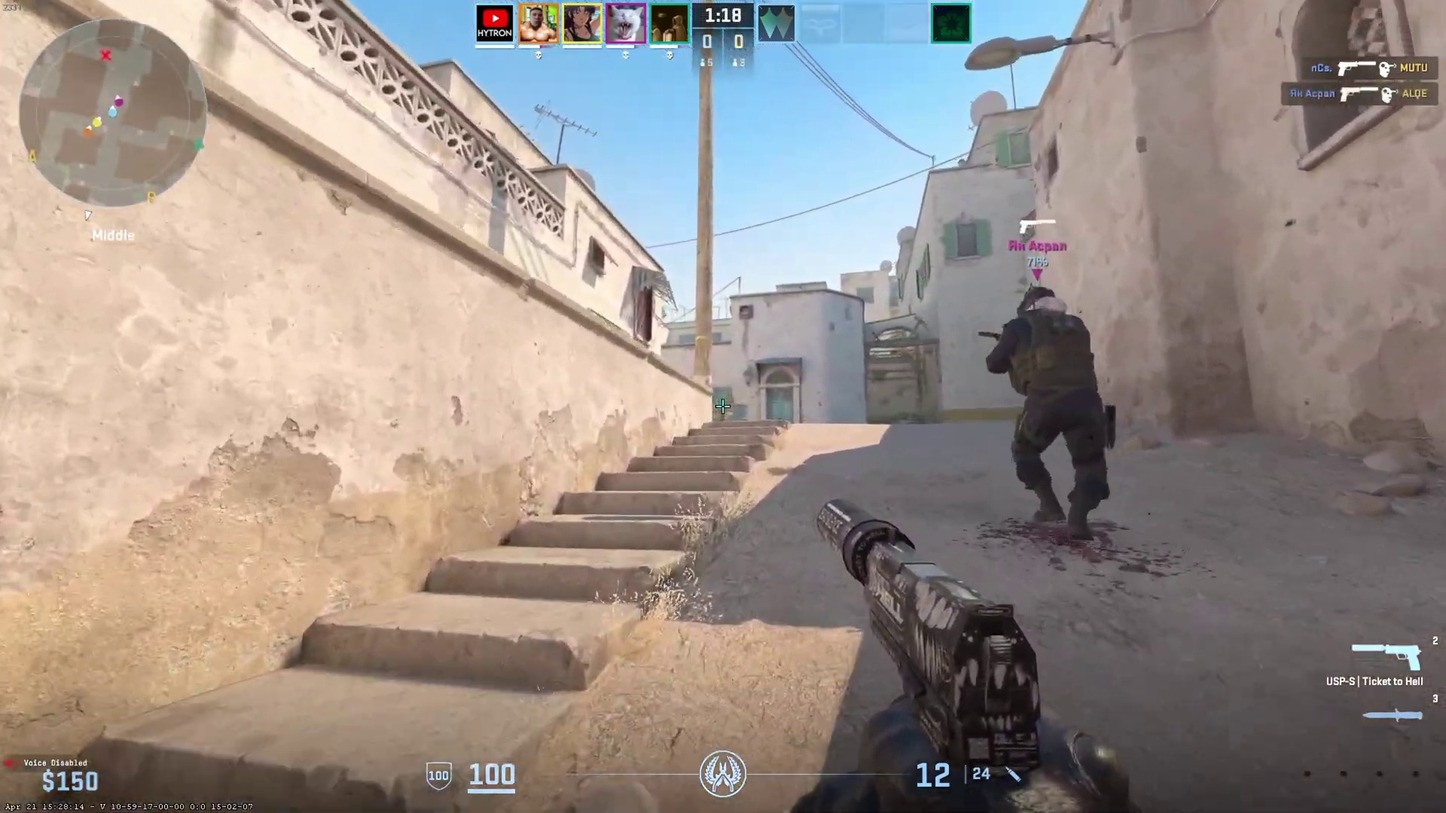CT: (1001, 287, 1106, 540)
